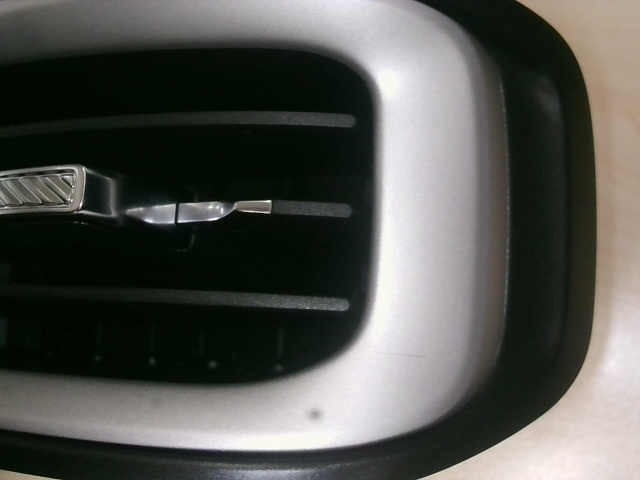NG: (374, 341, 445, 383)
